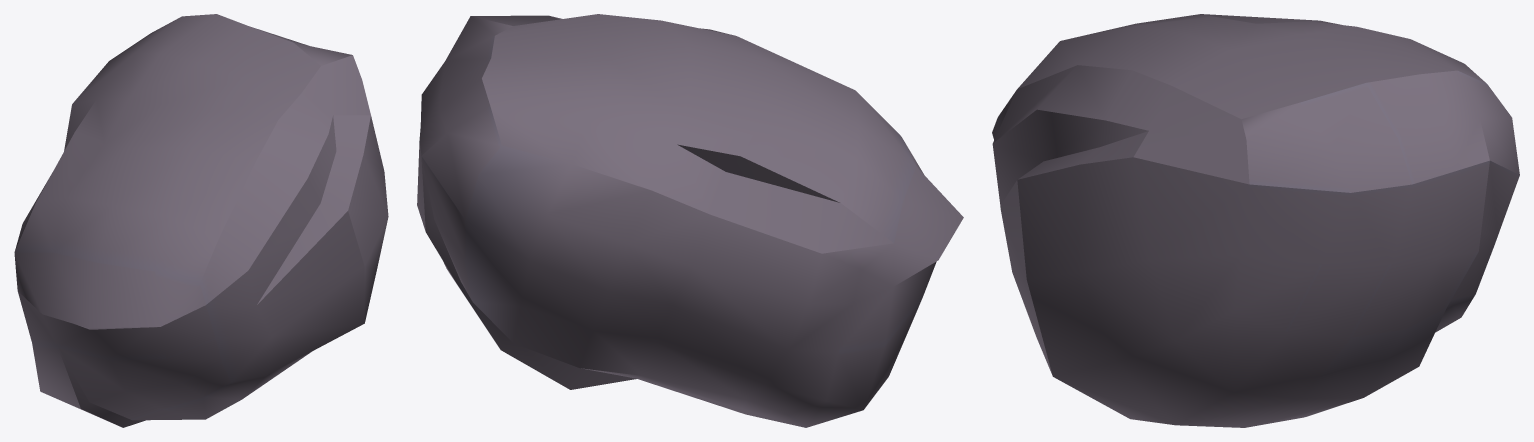
Rendered from P_stone_02.fbx.
The picture shows the model from 3 angles, left to right: view 1: azimuth 30°, elevation 25°; view 2: azimuth 150°, elevation 25°; view 3: azimuth 270°, elevation 25°; orthographic projection. The views are drawn at different scales.
Parts seen in each view (by area): view 1: lod1; view 2: lod1; view 3: lod1.
Part boxes in pixels (x1=…): lod1: x1=14, y1=14, x2=388, y2=427; lod1: x1=417, y1=14, x2=963, y2=427; lod1: x1=992, y1=14, x2=1519, y2=427.
Size of what is drawn, in the model's own units: 825 by 671 by 768.
1 material, 1 textured.
